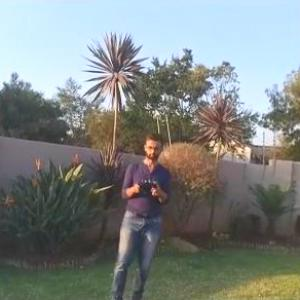follow: (102, 129, 172, 299)
